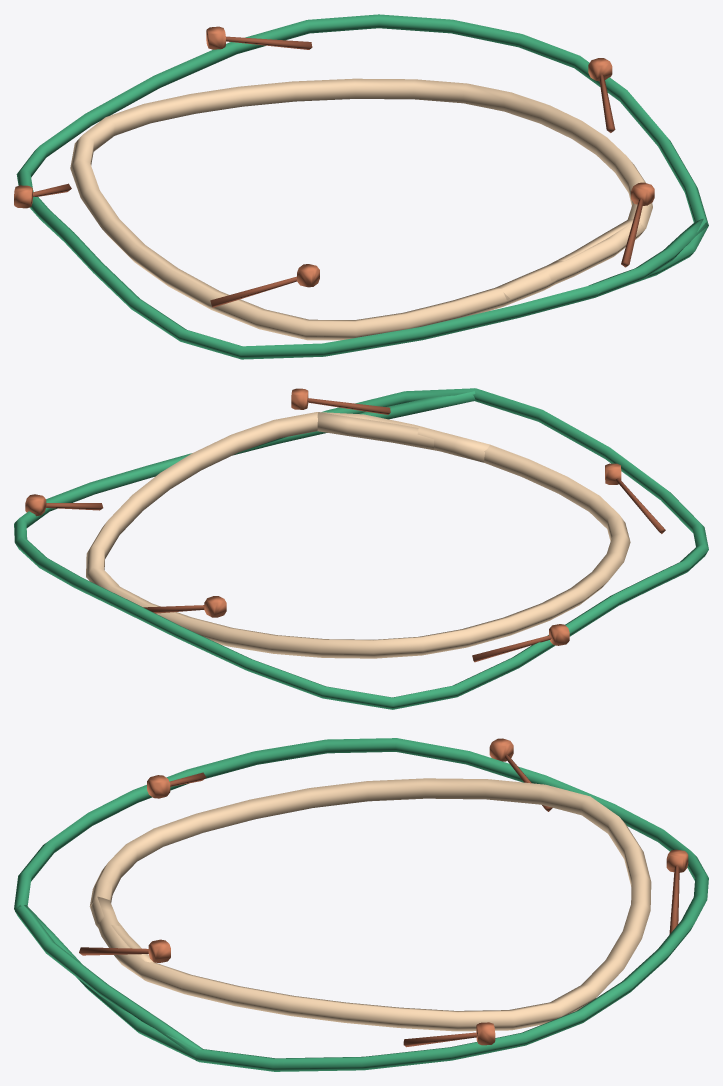
The model's file is higop.glb.
3 views of the same model, one above another, from view 1: azimuth 30°, elevation 25°; view 2: azimuth 150°, elevation 25°; view 3: azimuth 270°, elevation 25° (orthographic). The views are drawn at different scales.
Visible parts, largest first — view 1: loop-a, loop-b, pins; view 2: loop-a, loop-b, pins; view 3: loop-a, loop-b, pins.
Part boxes in pixels (x1,y1,x2,y2): loop-a: (70,78,652,340); loop-b: (16,14,708,359); pins: (14,26,654,307); loop-a: (86,412,630,658); loop-b: (14,388,708,709); pins: (25,388,665,662); loop-a: (89,778,651,1031); loop-b: (14,738,708,1071); pins: (79,738,688,1047).
Size of the model in its own units: 2.87 by 0.3959 by 2.86.
